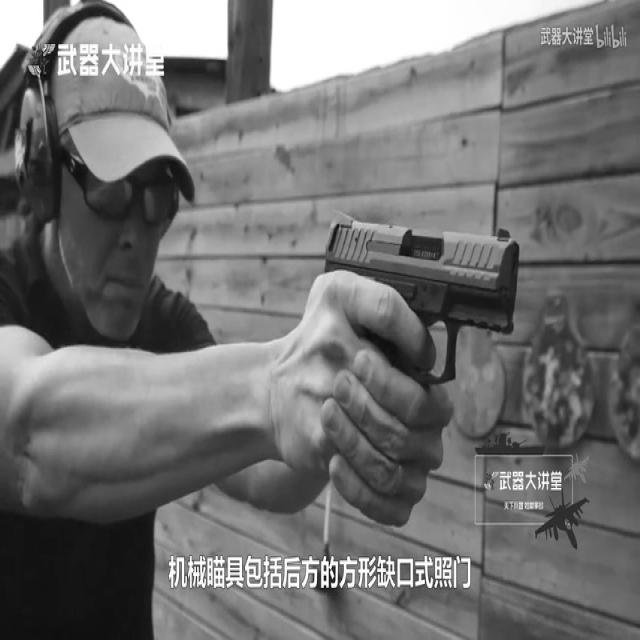Hand-Gun: (312, 151, 575, 509)
